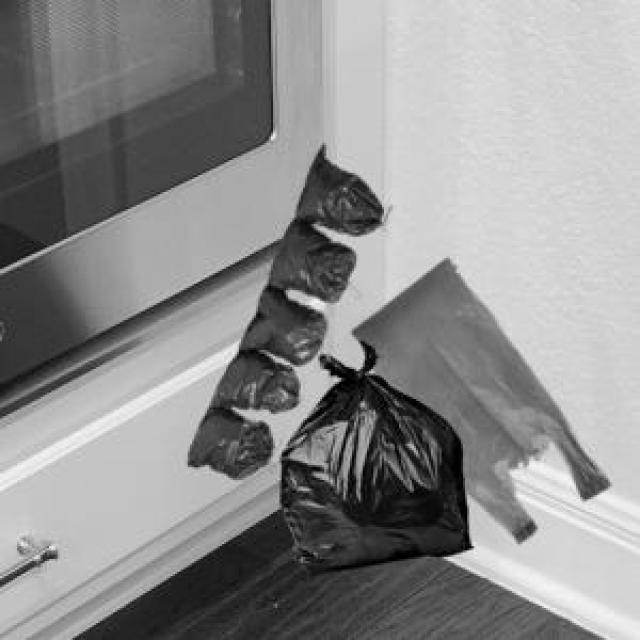miscellaneous trash: (184, 141, 380, 474), (277, 337, 467, 570)
